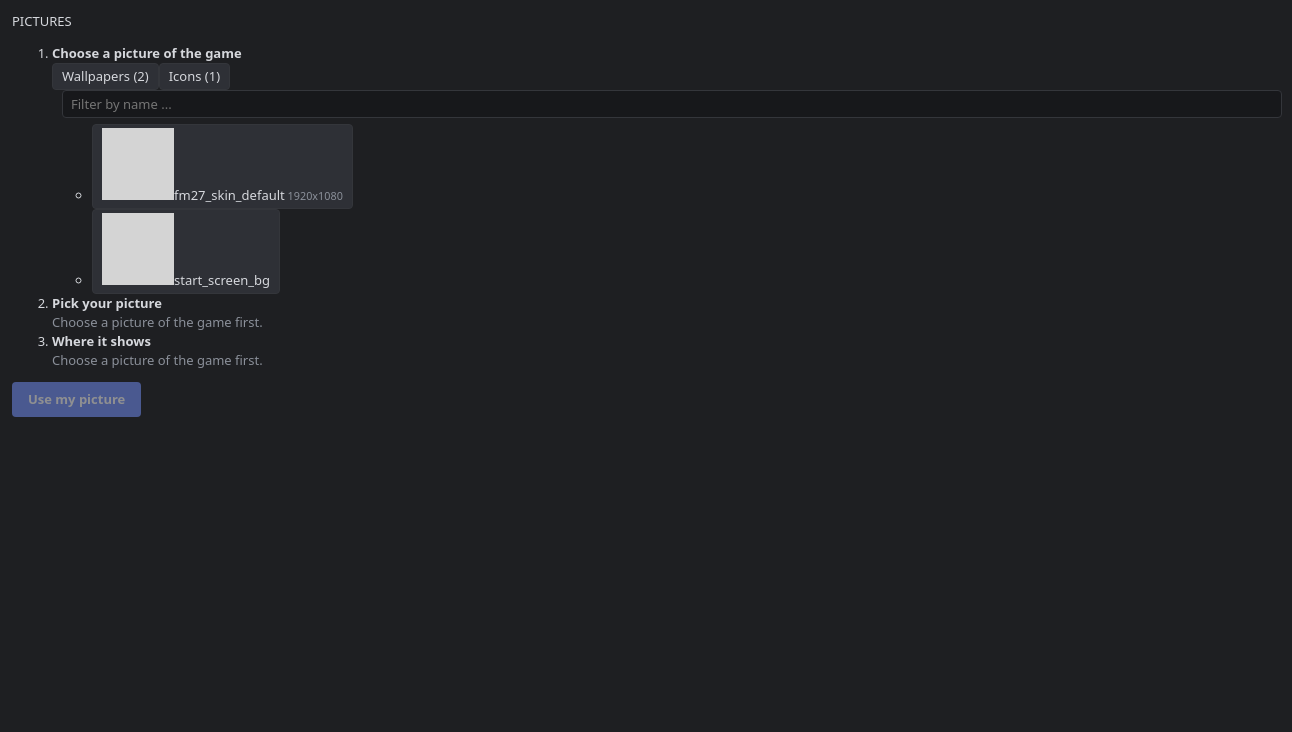
it: pictures in three steps › a place Look at it cannot draw says so instead of opening a layout it has not checked
Step 1. Click the button with aria-label "Choose start_screen_bg" → click(186, 252), box [92, 209, 280, 294]
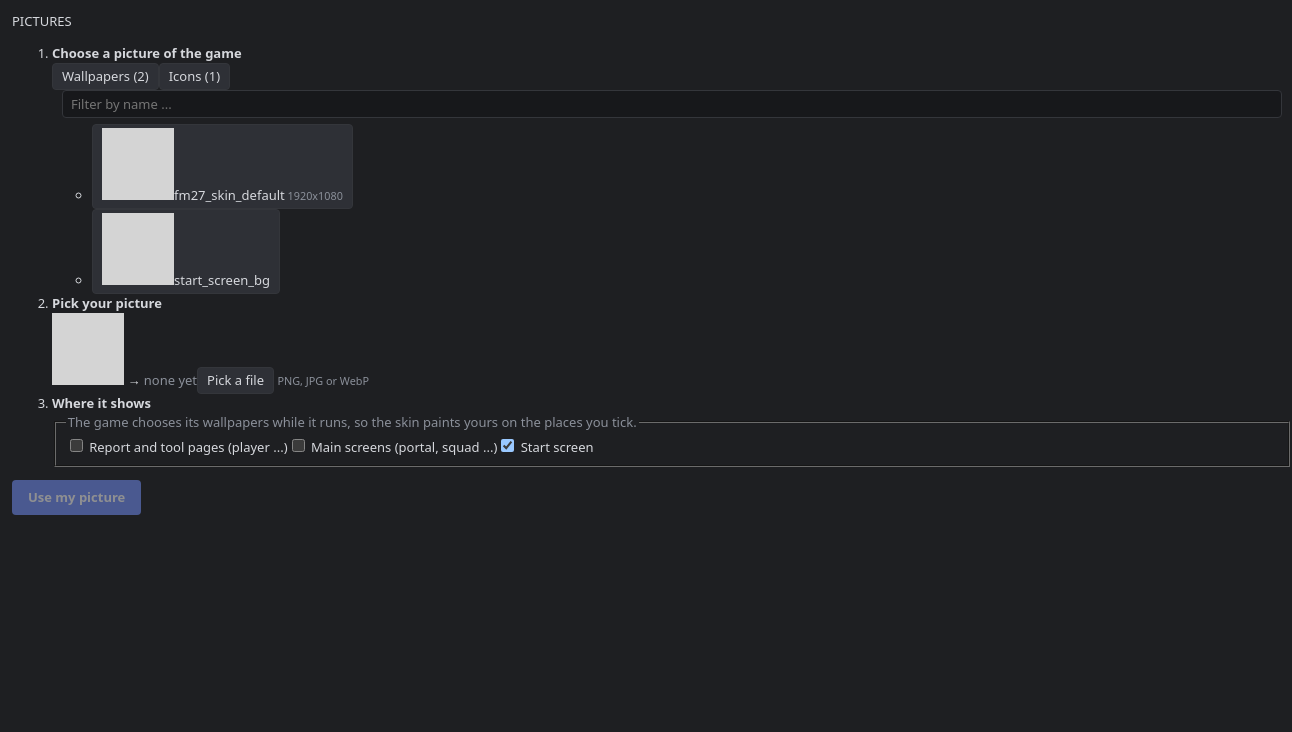
Step 2. Click the button "Pick a file" → click(236, 380), box [197, 367, 274, 394]
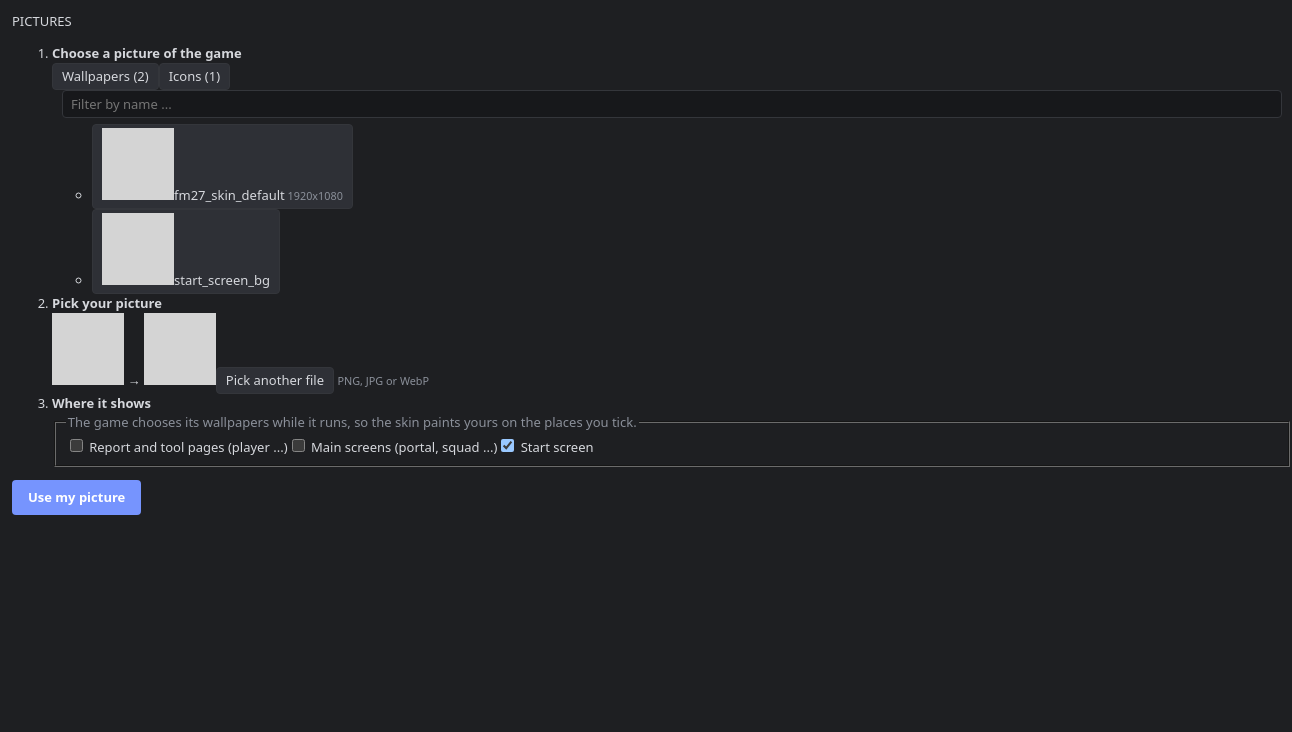
Check: the button "Use my picture" is enabled
Step 3. Click the button "Use my picture" → click(77, 497), box [12, 480, 141, 515]
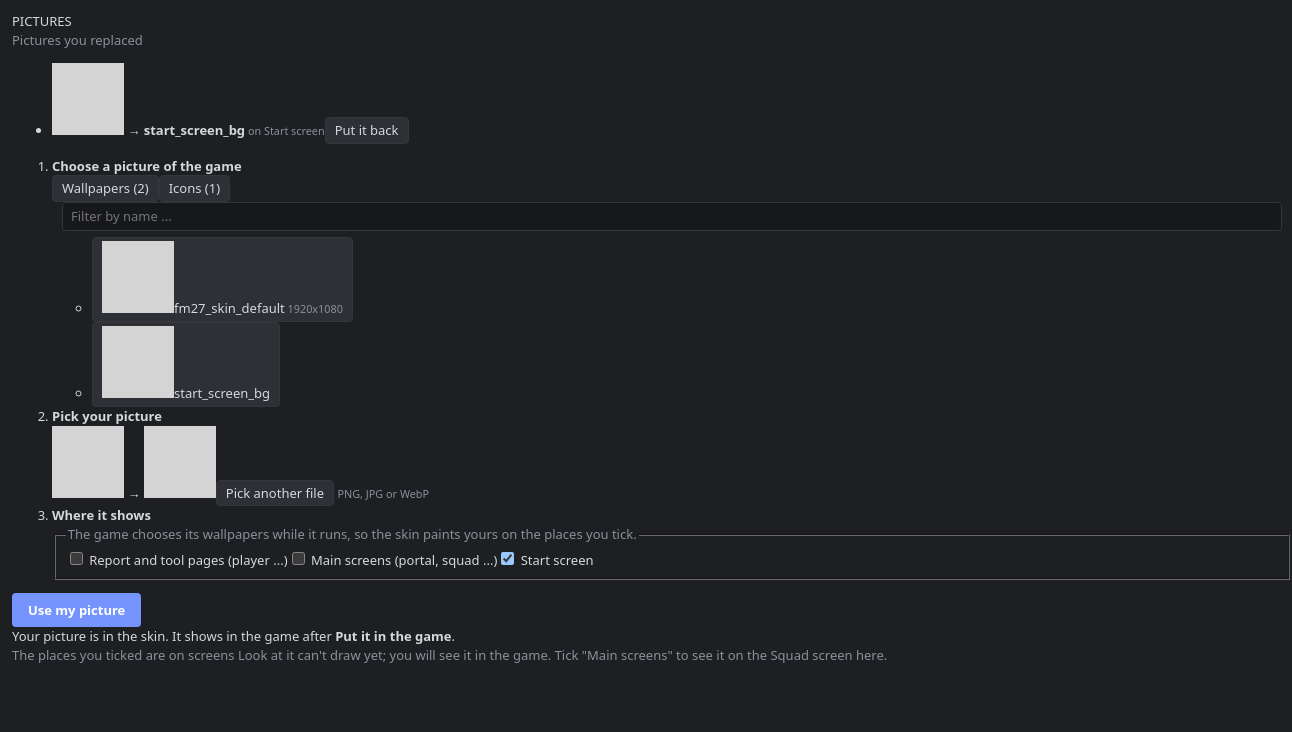
Check: the element with test id "pic-done" shows "screens Look at it can't draw yet", box [12, 646, 887, 664]
